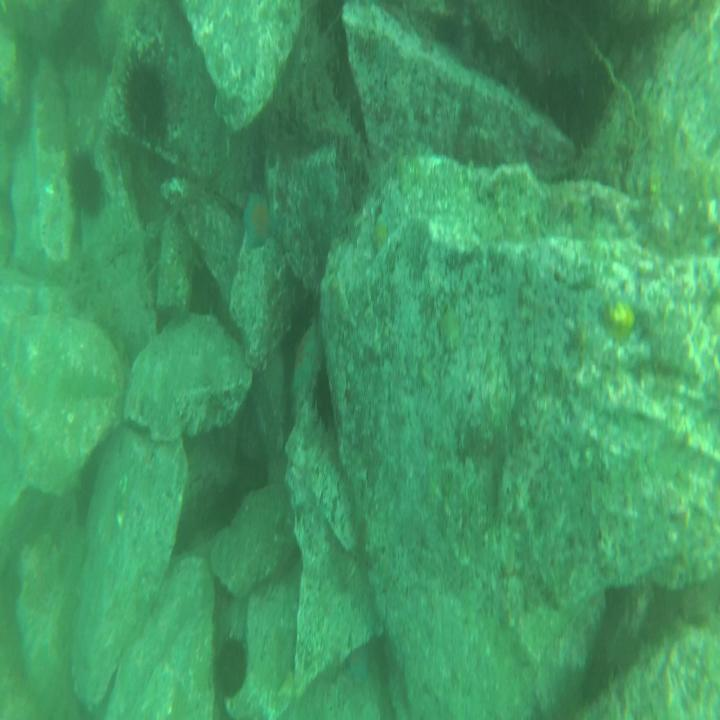echinus: (110, 49, 180, 154), (59, 144, 112, 231), (212, 628, 251, 702)
starfish: (289, 316, 318, 408), (239, 192, 277, 257), (366, 211, 392, 257)
